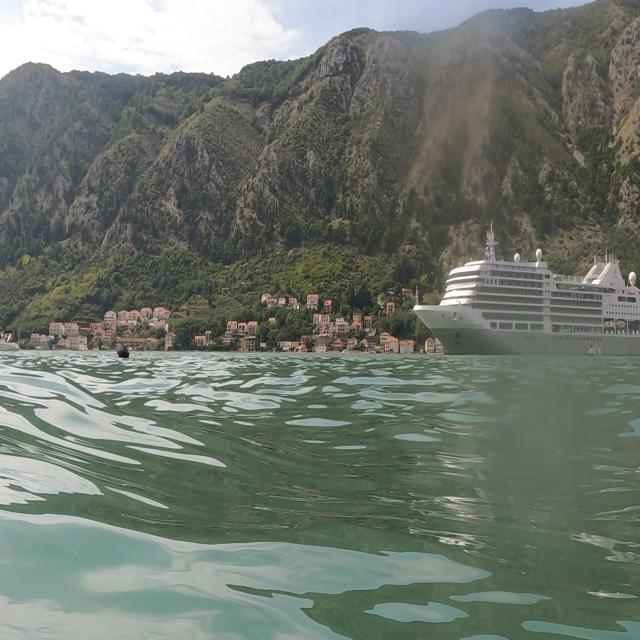boat: (410, 215, 639, 359)
buoy: (111, 339, 133, 363)
